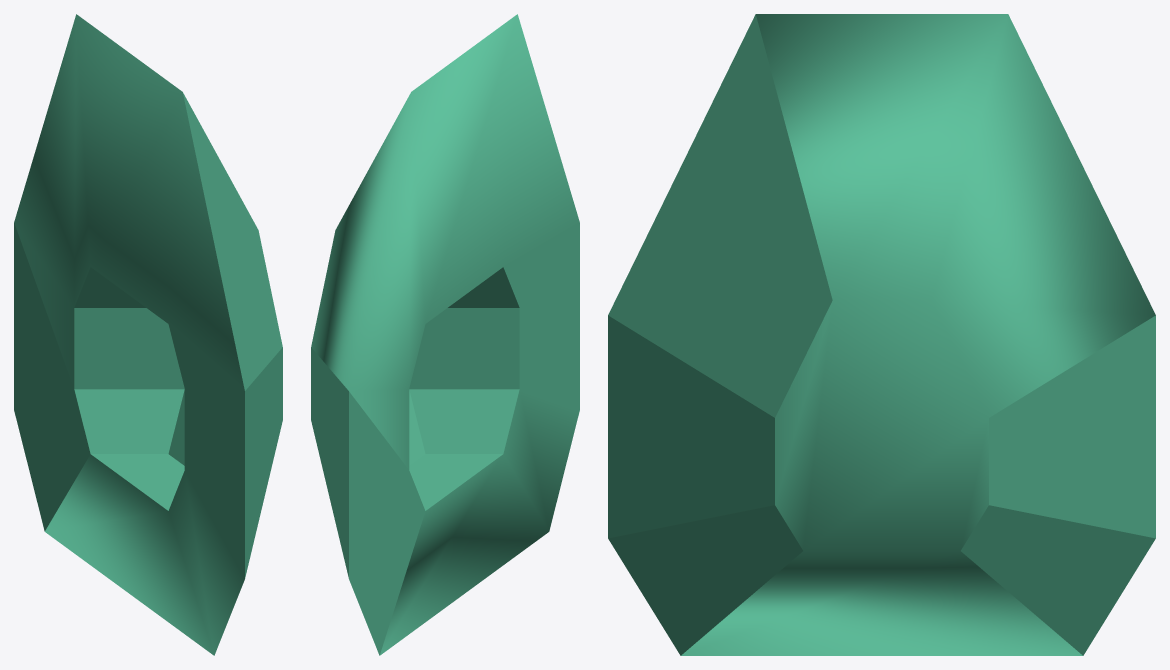
The model's file is flesh_visual.obj.
The picture shows the model from 3 angles, left to right: view 1: azimuth 30°, elevation 25°; view 2: azimuth 150°, elevation 25°; view 3: azimuth 270°, elevation 25°; orthographic projection. The views are drawn at different scales.
Parts seen in each view (by area): view 1: avocadoHalf.001; view 2: avocadoHalf.001; view 3: avocadoHalf.001.
Part boxes in pixels (box(x1,y1,x2,y2)): avocadoHalf.001: box(14, 14, 282, 655); avocadoHalf.001: box(311, 14, 579, 655); avocadoHalf.001: box(608, 14, 1155, 655).
Bounding box in the file's own units: 0.0373 × 0.1779 × 0.1376.
